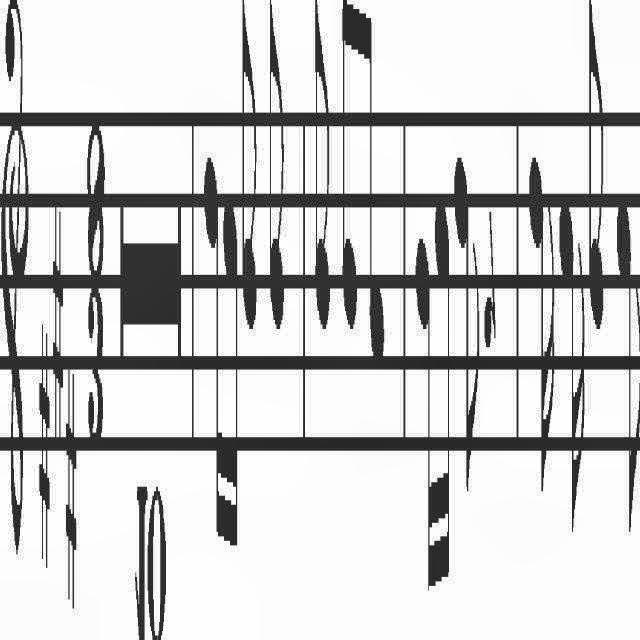Bass-clef: (0, 0, 28, 568)
Diez: (64, 364, 78, 616), (38, 322, 51, 574), (51, 199, 64, 445)
Eighth-note: (452, 153, 482, 504), (615, 190, 640, 546), (366, 0, 386, 370), (587, 1, 605, 343), (268, 0, 286, 338), (242, 1, 258, 343), (314, 1, 330, 326), (342, 0, 356, 348), (639, 190, 640, 546)
Eighth-rest: (484, 203, 496, 355)
Sixteenth-note: (558, 196, 586, 544), (528, 153, 556, 494), (202, 147, 222, 558), (434, 195, 451, 601), (414, 232, 432, 612), (222, 199, 238, 557)
